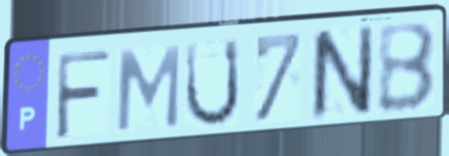7: (252, 30, 304, 128)
B: (375, 19, 439, 116)
F: (53, 48, 114, 144)
M: (113, 42, 183, 134)
N: (308, 21, 377, 125)
U: (182, 35, 243, 131)
